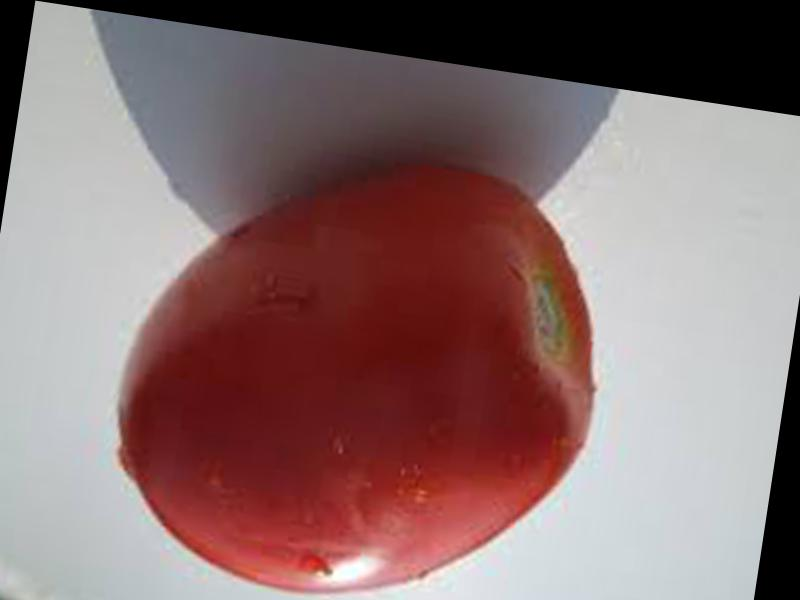Tomato: (96, 125, 623, 600)
